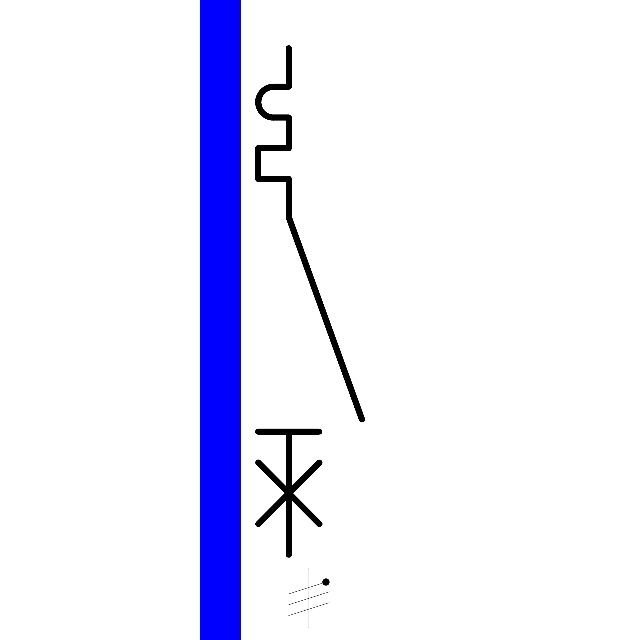interruptor_termomagnetico: (245, 35, 375, 567)
